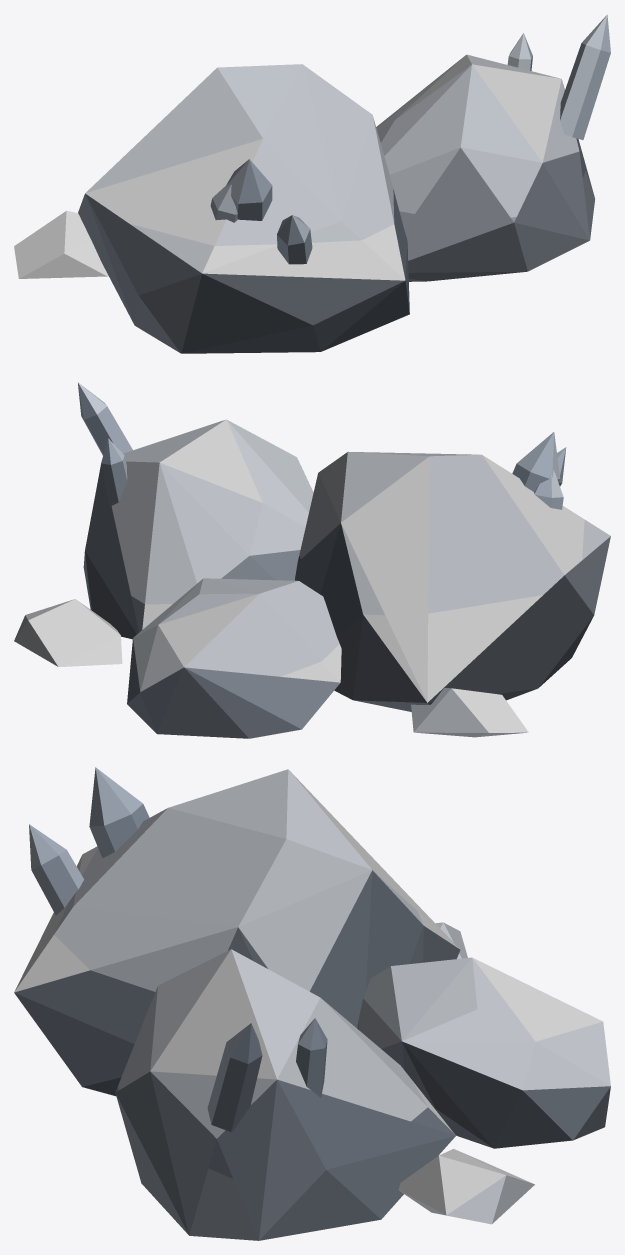
File: rock_arctic_2.glb
3 views of the same model, one above another, from view 1: azimuth 30°, elevation 25°; view 2: azimuth 150°, elevation 25°; view 3: azimuth 270°, elevation 25° (orthographic). The views are drawn at different scales.
Parts seen in each view (by area): view 1: Body; view 2: Body; view 3: Body.
Part boxes in pixels (x1,y1,x2,y2): Body: [14, 14, 610, 353]; Body: [14, 382, 610, 738]; Body: [14, 767, 610, 1240].
Size of the model in its own units: 4.01 by 1.64 by 3.27.
